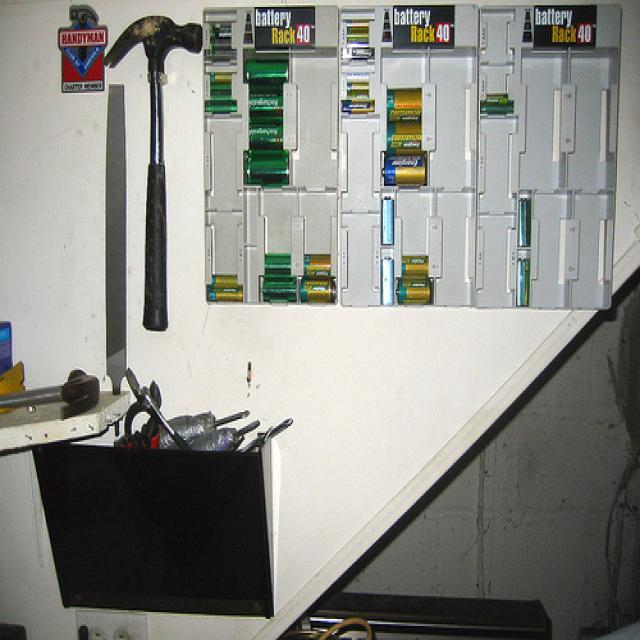hammer: (101, 8, 206, 339)
